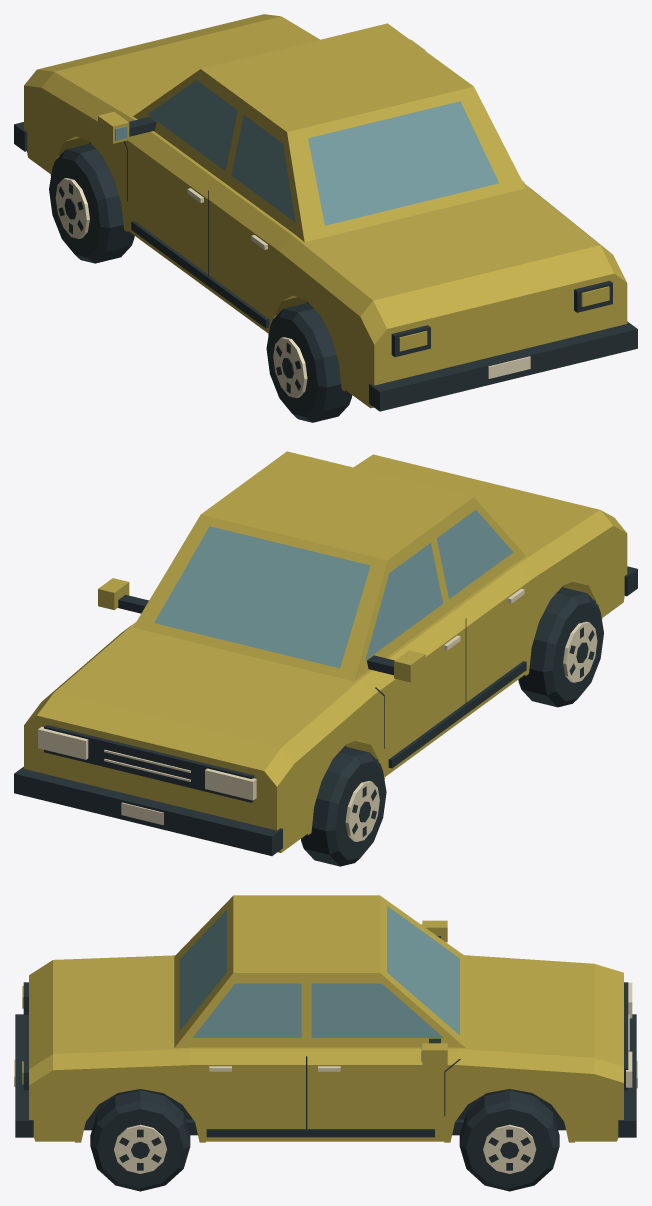
Rendered from sedanyellow.glb.
3 renders of one model, top to bottom at view 1: azimuth 30°, elevation 25°; view 2: azimuth 150°, elevation 25°; view 3: azimuth 270°, elevation 25°, orthographic. The views are drawn at different scales.
Visible parts, largest first — view 1: Body_upper_facets_1, Body_shell_0, Cabin_roof_13, Rear_window_17, Rear_window_frame_15, Wheel_Rear_Left, Wheel_Front_Left, Rear_bumper_39, Cabin_side_11, Front_side_window_19, Quarter_window_18, Sill_trim_24 (+6 smaller); view 2: Body_upper_facets_1, Body_shell_0, Windshield_16, Cabin_roof_13, Windshield_frame_14, Wheel_Rear_Left, Wheel_Front_Left, Front_bumper_37, Cabin_side_11, Front_side_window_19, Front_grille_32, Quarter_window_18 (+7 smaller); view 3: Body_upper_facets_1, Body_shell_0, Cabin_roof_13, Wheel_Front_Right, Wheel_Rear_Right, Cabin_side_12, Front_side_window_21, Windshield_16, Quarter_window_20, Rear_window_17, Windshield_frame_14, Sill_trim_27 (+9 smaller).
Part boxes in pixels (left/top/right/bottom): Body_upper_facets_1: left=24, top=14, right=626, bottom=344; Body_shell_0: left=24, top=85, right=627, bottom=408; Cabin_roof_13: left=201, top=23, right=473, bottom=131; Rear_window_17: left=308, top=101, right=498, bottom=225; Rear_window_frame_15: left=287, top=86, right=525, bottom=242; Wheel_Rear_Left: left=266, top=302, right=352, bottom=422; Wheel_Front_Left: left=49, top=143, right=134, bottom=263; Rear_bumper_39: left=369, top=321, right=637, bottom=411; Cabin_side_11: left=133, top=69, right=304, bottom=241; Front_side_window_19: left=147, top=80, right=237, bottom=170; Quarter_window_18: left=231, top=115, right=295, bottom=222; Sill_trim_24: left=131, top=221, right=269, bottom=328; Body_upper_facets_1: left=24, top=454, right=626, bottom=786; Body_shell_0: left=24, top=526, right=627, bottom=852; Windshield_16: left=154, top=526, right=370, bottom=668; Cabin_roof_13: left=201, top=451, right=473, bottom=559; Windshield_frame_14: left=133, top=514, right=387, bottom=681; Wheel_Rear_Left: left=518, top=587, right=603, bottom=707; Wheel_Front_Left: left=301, top=746, right=386, bottom=866; Front_bumper_37: left=14, top=766, right=282, bottom=855; Cabin_side_11: left=354, top=497, right=525, bottom=680; Front_side_window_19: left=365, top=543, right=443, bottom=660; Front_grille_32: left=44, top=725, right=254, bottom=802; Quarter_window_18: left=436, top=510, right=513, bottom=598; Body_upper_facets_1: left=29, top=955, right=623, bottom=1085; Body_shell_0: left=29, top=1065, right=623, bottom=1141; Cabin_roof_13: left=233, top=895, right=379, bottom=972; Wheel_Front_Right: left=459, top=1090, right=559, bottom=1191; Wheel_Rear_Right: left=90, top=1090, right=190, bottom=1191; Cabin_side_12: left=174, top=973, right=464, bottom=1048; Front_side_window_21: left=311, top=983, right=443, bottom=1037; Windshield_16: left=387, top=906, right=459, bottom=1034; Quarter_window_20: left=192, top=983, right=301, bottom=1037; Rear_window_17: left=179, top=909, right=226, bottom=1030; Windshield_frame_14: left=380, top=895, right=465, bottom=1047; Sill_trim_27: left=206, top=1129, right=434, bottom=1137.
Size of the model in its own units: 2.17 by 1.57 by 4.43.
